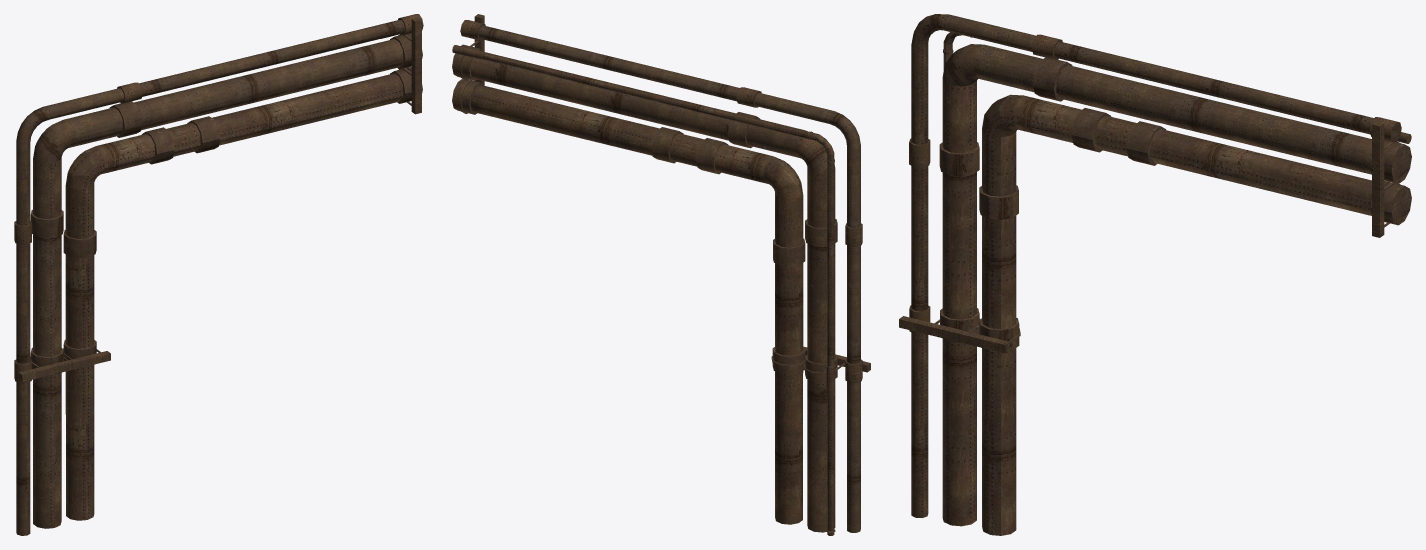
File: pipeset08d_corner128d_001a.glb
The picture shows the model from 3 angles, left to right: view 1: azimuth 30°, elevation 25°; view 2: azimuth 150°, elevation 25°; view 3: azimuth 330°, elevation 25°; orthographic projection. The views are drawn at different scales.
Visible parts, largest first — view 1: 0_pipeset_metal; view 2: 0_pipeset_metal; view 3: 0_pipeset_metal.
Boxes of the visible parts, <box> form: 0_pipeset_metal: <box>14,14,423,535</box>; 0_pipeset_metal: <box>452,14,870,535</box>; 0_pipeset_metal: <box>899,14,1411,535</box>.
Bounding box in the file's own units: 3.25 × 3.25 × 0.3048.
1 material, 1 textured.
